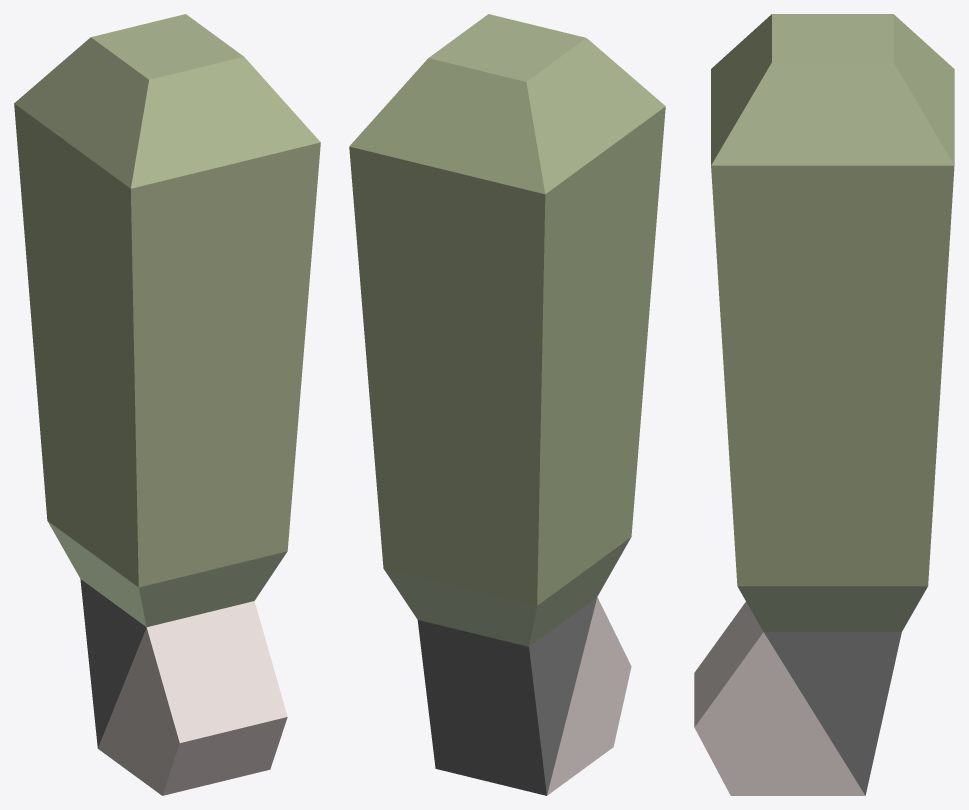
The model's file is Bandit4LowerArm.fbx.
3 renders of one model, left to right at view 1: azimuth 30°, elevation 25°; view 2: azimuth 150°, elevation 25°; view 3: azimuth 270°, elevation 25°, orthographic. The views are drawn at different scales.
Parts seen in each view (by area): view 1: Bandit4LowerArm; view 2: Bandit4LowerArm; view 3: Bandit4LowerArm.
Part boxes in pixels (x1,y1,x2,y2): Bandit4LowerArm: (14,14,320,795); Bandit4LowerArm: (349,14,665,795); Bandit4LowerArm: (694,14,954,795).
Size of the model in its own units: 0.1568 by 0.552 by 0.1781.
